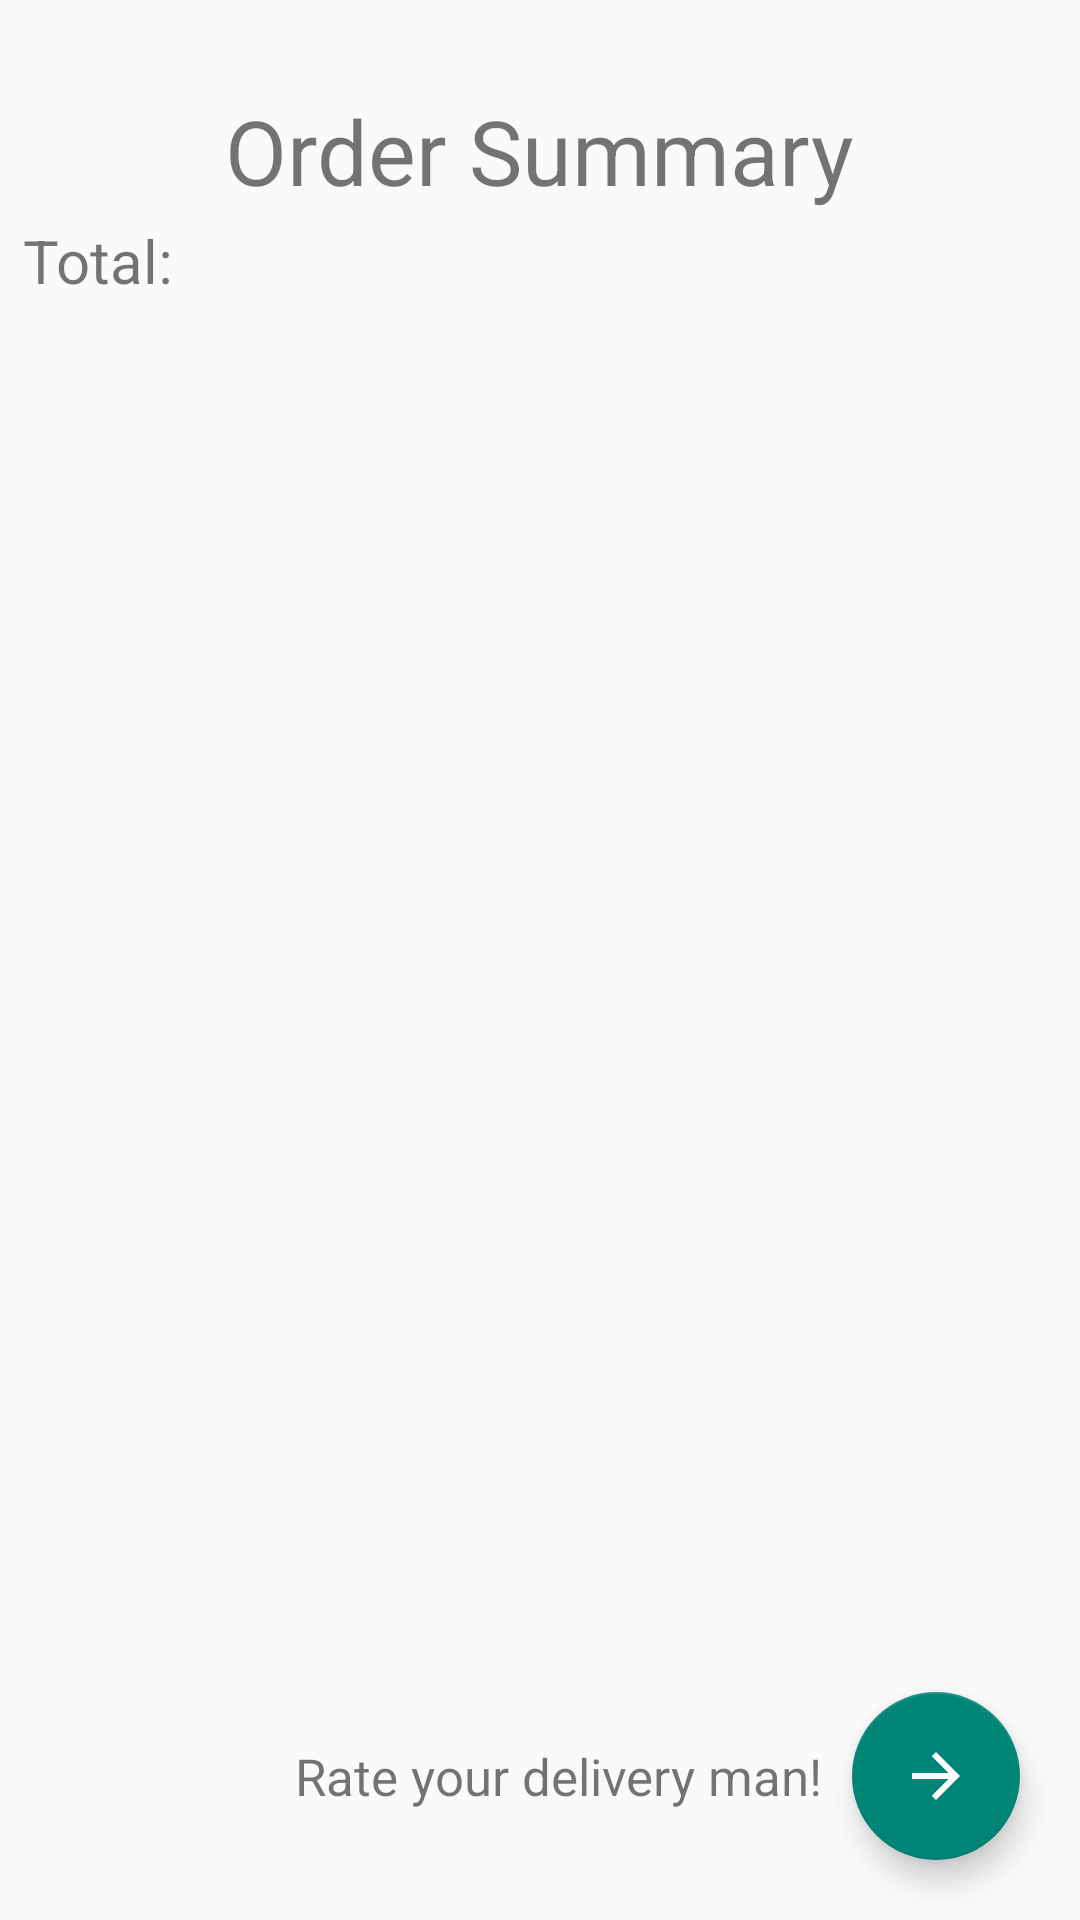

Icon click points for this 1080x1920 phone screenshot, format (x,y):
arrow forward: (936,1776)
